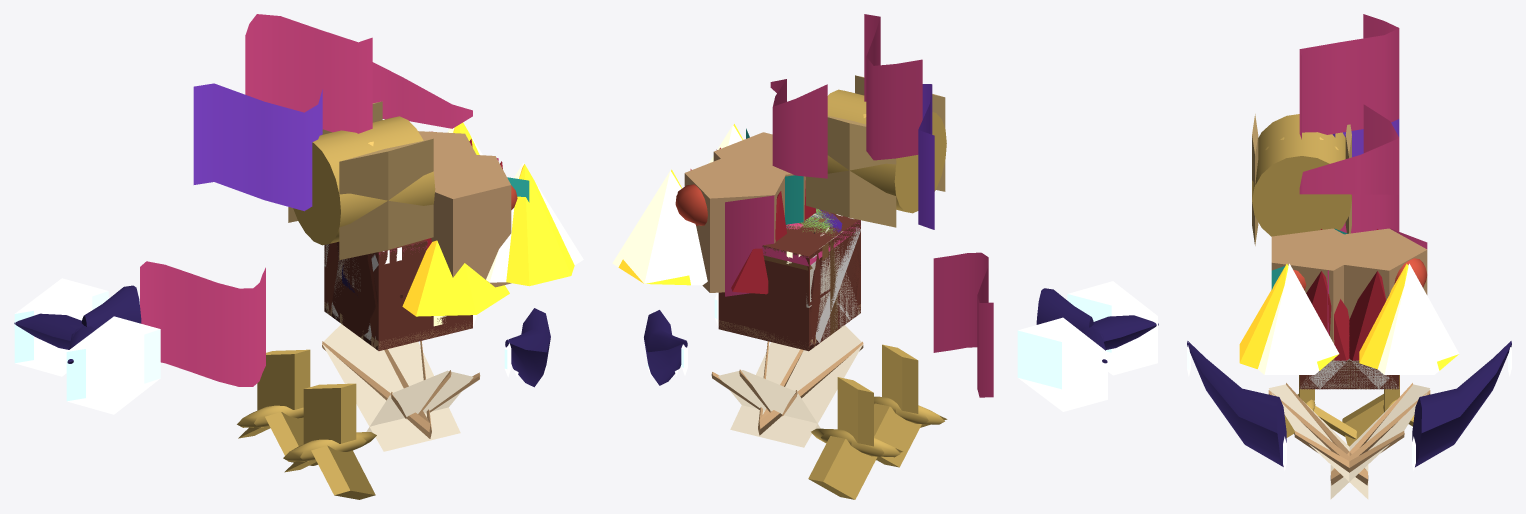
The model's file is fete-mer.glb.
3 renders of one model, left to right at view 1: azimuth 30°, elevation 25°; view 2: azimuth 150°, elevation 25°; view 3: azimuth 270°, elevation 25°, orthographic. The views are drawn at different scales.
Visible parts, largest first — view 1: ponton_gong, etoilee_queue, barge_drapeau, dirigeable_banderole, ponton_drapeau, ponton_brasg, dirigeable_ailed, dirigeable_heliceg, ponton_flamme0, barge_corps, dirigeable_heliced, barge_flamme (+6 smaller); view 2: etoilee_queue, ponton_brasd, ponton_gong, barge_corps, dirigeable_aileg, dirigeable_banderole, ponton_drapeau, ponton_flamme1, dirigeable_heliced, balise_fanion, dirigeable_heliceg, ponton_brasg (+7 smaller); view 3: ponton_drapeau, ponton_gong, ponton_brasd, ponton_flamme0, ponton_flamme1, ponton_brasg, balise_fanion, etoilee_nageoireg, etoilee_nageoired, dirigeable_ailed, dirigeable_aileg, barge_corps (+5 smaller).
Boxes of the visible parts, x1=… form: ponton_gong: x1=288, y1=101, x2=435, y2=260; etoilee_queue: x1=14, y1=278, x2=160, y2=414; barge_drapeau: x1=193, y1=83, x2=322, y2=211; dirigeable_banderole: x1=140, y1=261, x2=265, y2=386; ponton_drapeau: x1=245, y1=14, x2=372, y2=133; ponton_brasg: x1=424, y1=152, x2=529, y2=287; dirigeable_ailed: x1=322, y1=324, x2=460, y2=451; dirigeable_heliceg: x1=283, y1=383, x2=376, y2=499; ponton_flamme0: x1=486, y1=163, x2=583, y2=286; barge_corps: x1=324, y1=240, x2=472, y2=350; dirigeable_heliced: x1=237, y1=349, x2=317, y2=465; barge_flamme: x1=402, y1=240, x2=509, y2=316; etoilee_queue: x1=1017, y1=281, x2=1158, y2=411; ponton_brasd: x1=675, y1=149, x2=786, y2=296; ponton_gong: x1=806, y1=75, x2=946, y2=227; barge_corps: x1=718, y1=210, x2=860, y2=351; dirigeable_aileg: x1=730, y1=325, x2=863, y2=447; dirigeable_banderole: x1=933, y1=252, x2=993, y2=397; ponton_drapeau: x1=864, y1=14, x2=922, y2=160; ponton_flamme1: x1=612, y1=169, x2=707, y2=285; dirigeable_heliced: x1=808, y1=377, x2=902, y2=499; balise_fanion: x1=770, y1=79, x2=827, y2=178; dirigeable_heliceg: x1=874, y1=344, x2=947, y2=467; ponton_brasg: x1=713, y1=128, x2=816, y2=224; ponton_drapeau: x1=1299, y1=14, x2=1399, y2=139; ponton_gong: x1=1252, y1=114, x2=1351, y2=245; ponton_brasd: x1=1327, y1=228, x2=1427, y2=360; ponton_flamme0: x1=1239, y1=263, x2=1339, y2=374; ponton_flamme1: x1=1359, y1=263, x2=1459, y2=374; ponton_brasg: x1=1271, y1=228, x2=1370, y2=361; balise_fanion: x1=1299, y1=104, x2=1399, y2=194; etoilee_nageoireg: x1=1187, y1=341, x2=1286, y2=470; etoilee_nageoired: x1=1412, y1=341, x2=1511, y2=470; dirigeable_ailed: x1=1330, y1=383, x2=1430, y2=499; dirigeable_aileg: x1=1268, y1=383, x2=1368, y2=499; barge_corps: x1=1299, y1=359, x2=1399, y2=389.
Size of the model in its own units: 10.55 by 8.92 by 6.5.
